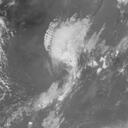cyclone: (45, 15, 86, 66)
